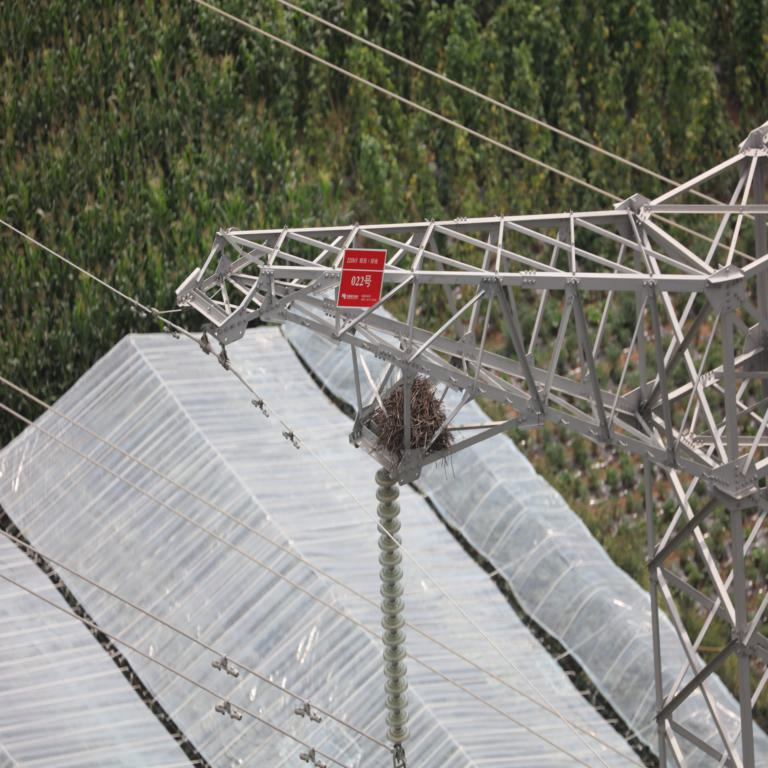nest: (369, 378, 448, 454)
